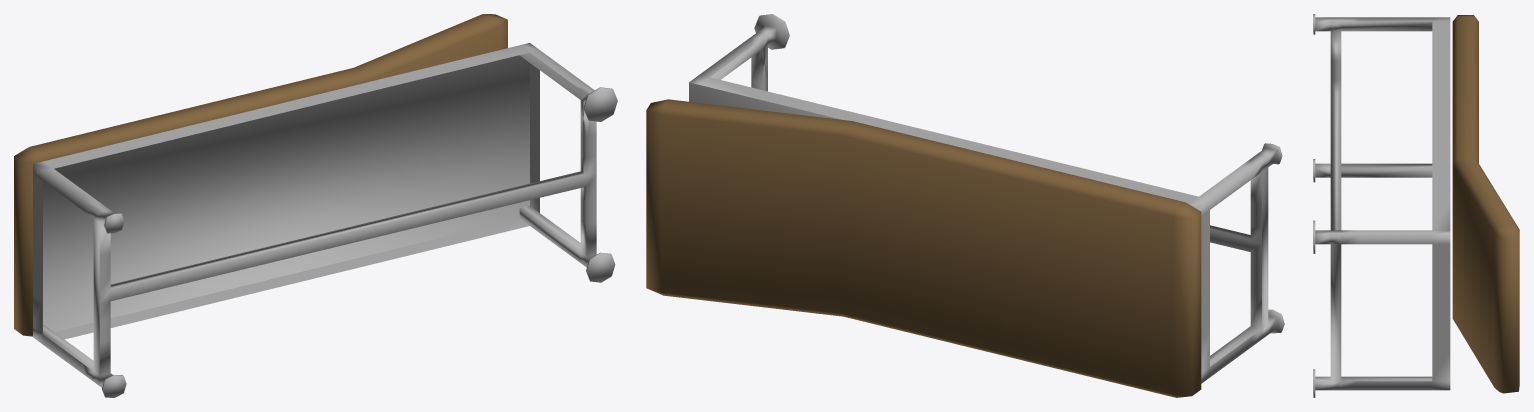
3 renders of one model, left to right at view 1: azimuth 30°, elevation 25°; view 2: azimuth 150°, elevation 25°; view 3: azimuth 270°, elevation 25°, orthographic. The views are drawn at different scales.
Parts seen in each view (by area): view 1: Cube.001; view 2: Cube.001; view 3: Cube.001.
Boxes of the visible parts, box(x1,y1,x2,y2) form: Cube.001: box(14, 14, 617, 397); Cube.001: box(646, 14, 1284, 397); Cube.001: box(1313, 14, 1519, 397).
Bounding box in the file's own units: 202 × 72.99 × 78.19.
